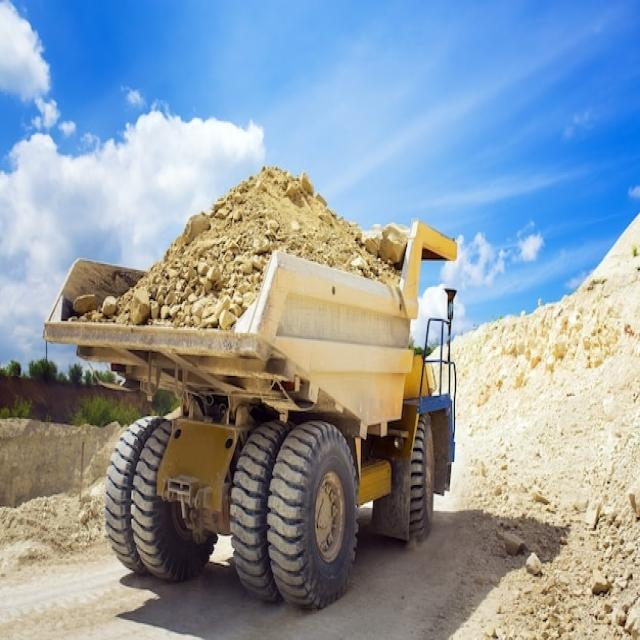dump_truck: (34, 143, 465, 611)
